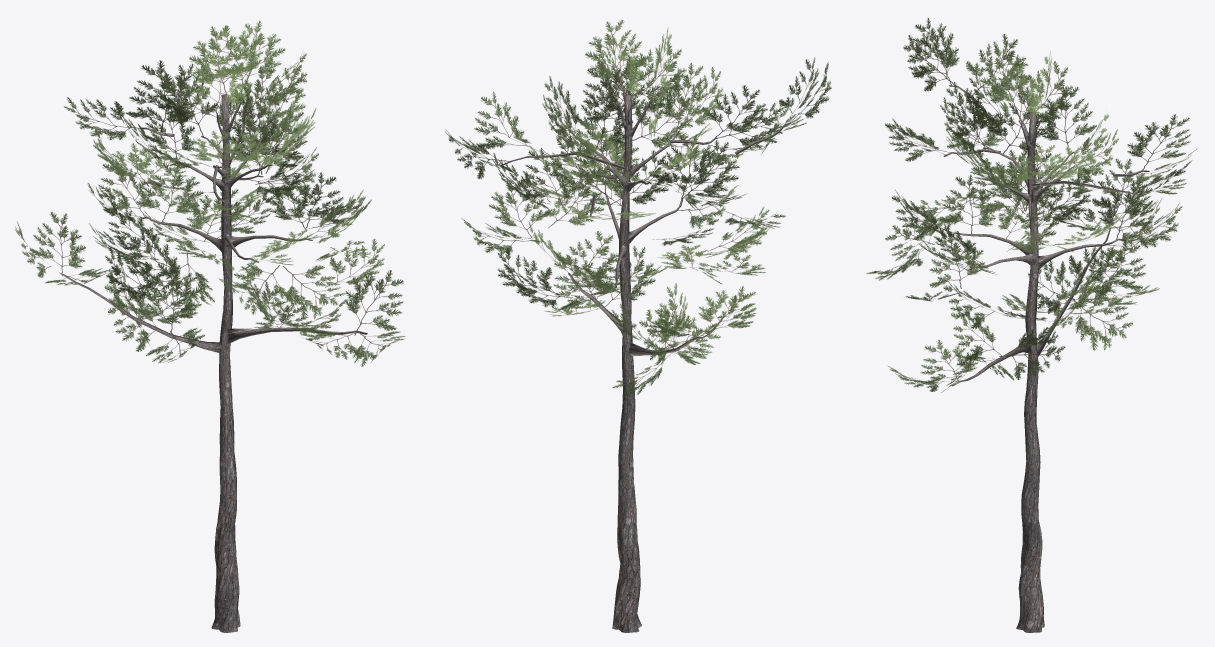
The model's file is cay-dau-co-thu-03-3.glb.
The picture shows the model from 3 angles, left to right: view 1: azimuth 30°, elevation 25°; view 2: azimuth 150°, elevation 25°; view 3: azimuth 270°, elevation 25°; orthographic projection. The views are drawn at different scales.
Parts seen in each view (by area): view 1: Tree_03; view 2: Tree_03; view 3: Tree_03.
Part boxes in pixels (<box>): Tree_03: <box>15,20,405,632</box>; Tree_03: <box>445,19,831,632</box>; Tree_03: <box>866,18,1197,632</box>.
Bounding box in the file's own units: 17.42 × 31.68 × 16.78.
Materials: 1 (1 with a texture image).
